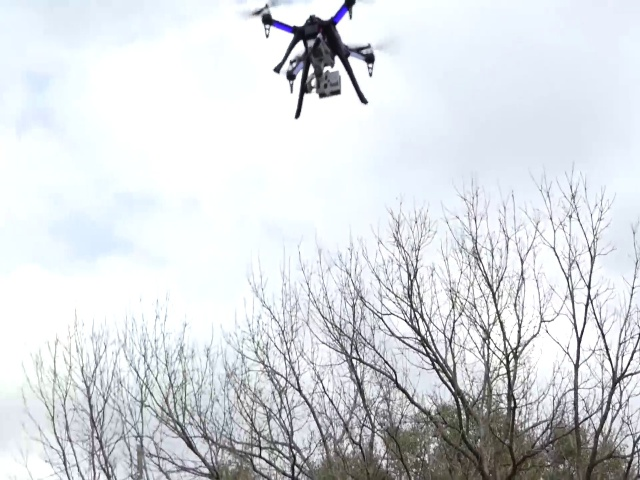drone: (231, 1, 398, 121)
